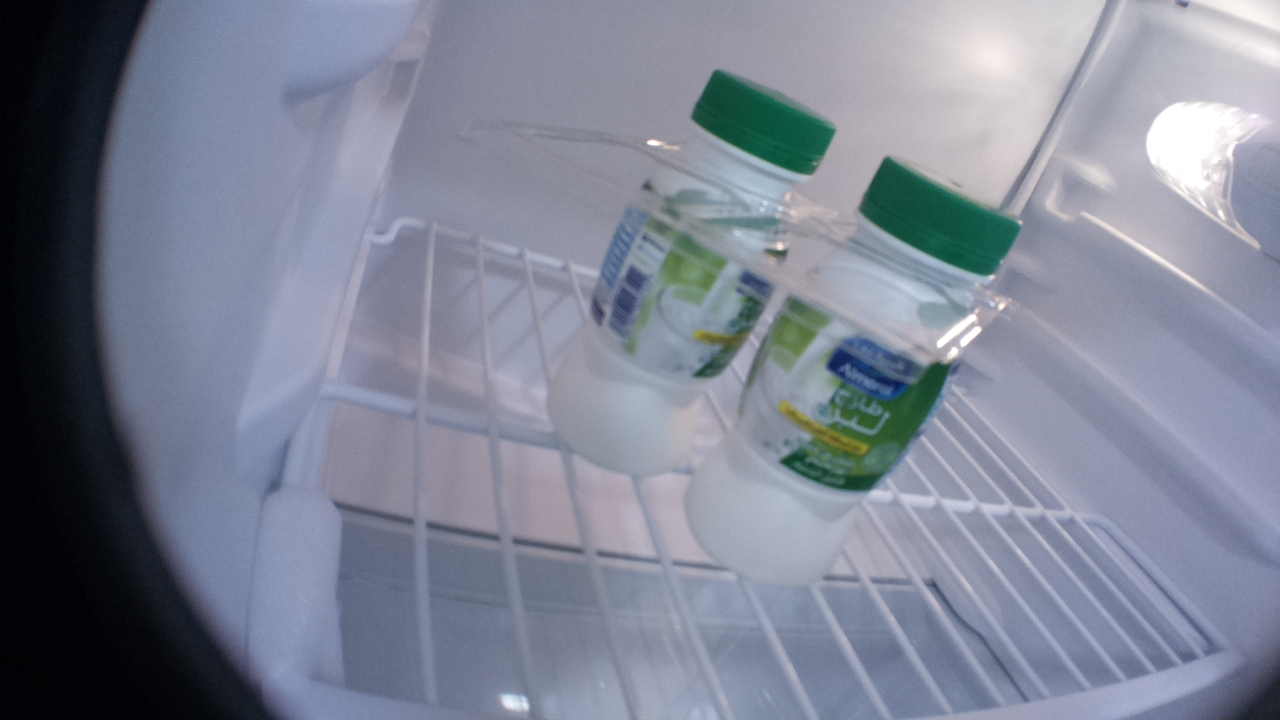laban: (669, 152, 1025, 590), (544, 64, 837, 473)
